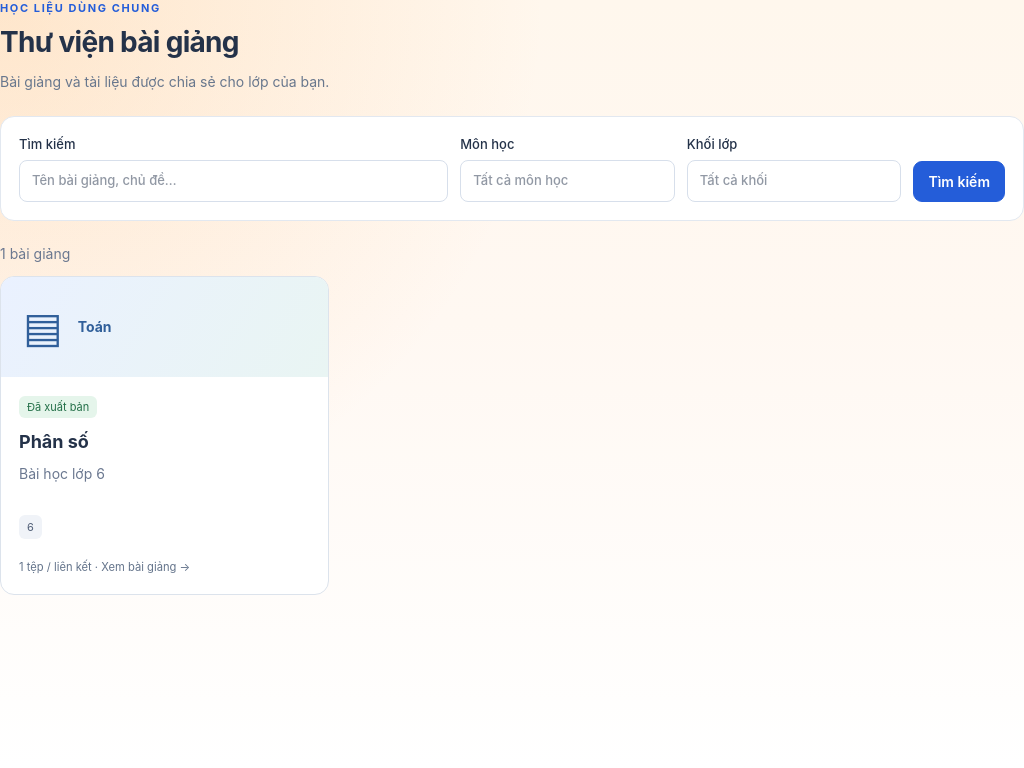
Scenario: opens allowed content and keeps read-only controls for a learner
Click the button "Phân số" at (165, 326), box [0,276,329,595]
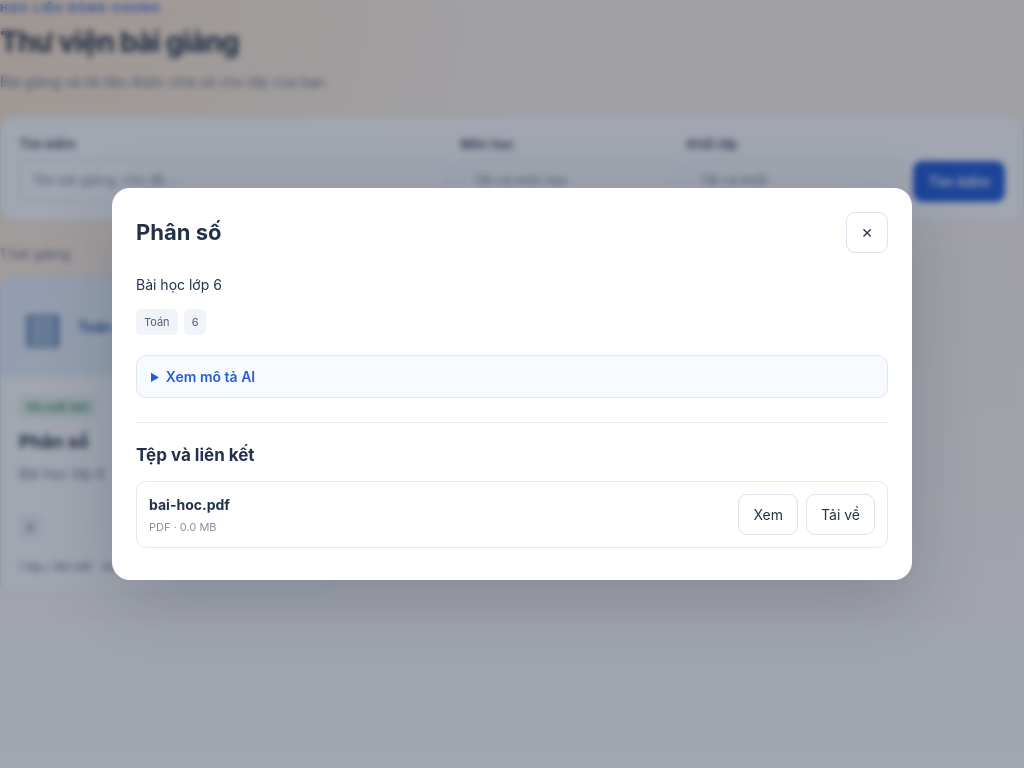
Now the text "bai-hoc.pdf" is shown, box [149,494,230,515]
Click the button named "Đóng" at (867, 232), box [846,212,888,253]
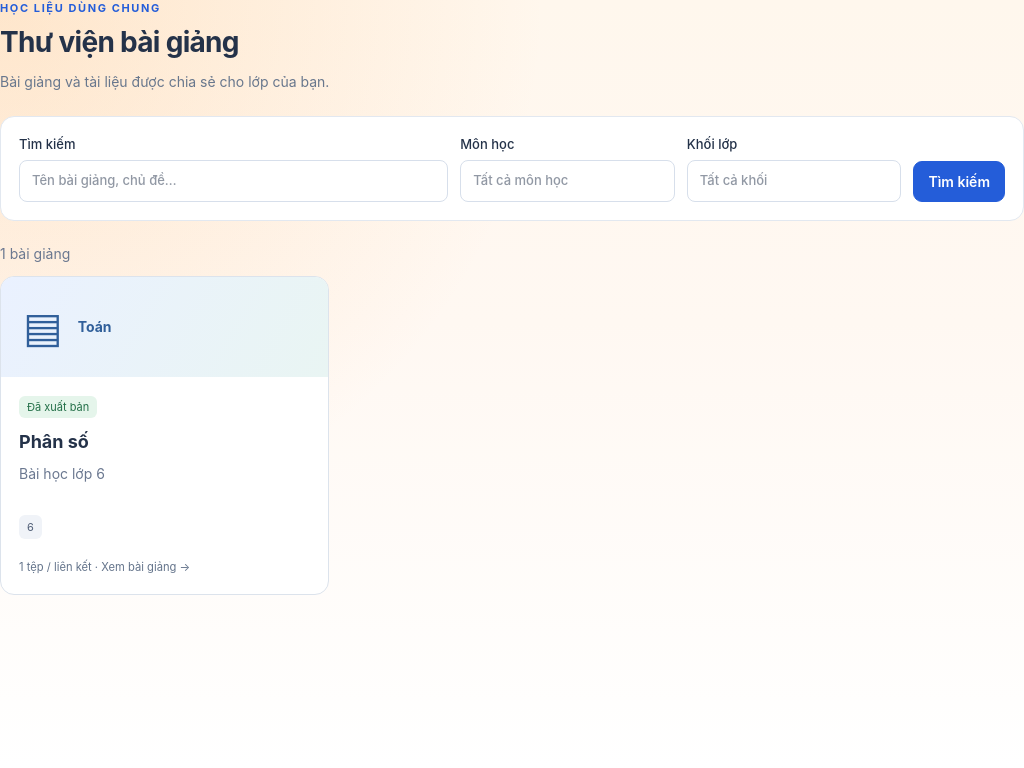
Now the dialog is gone
